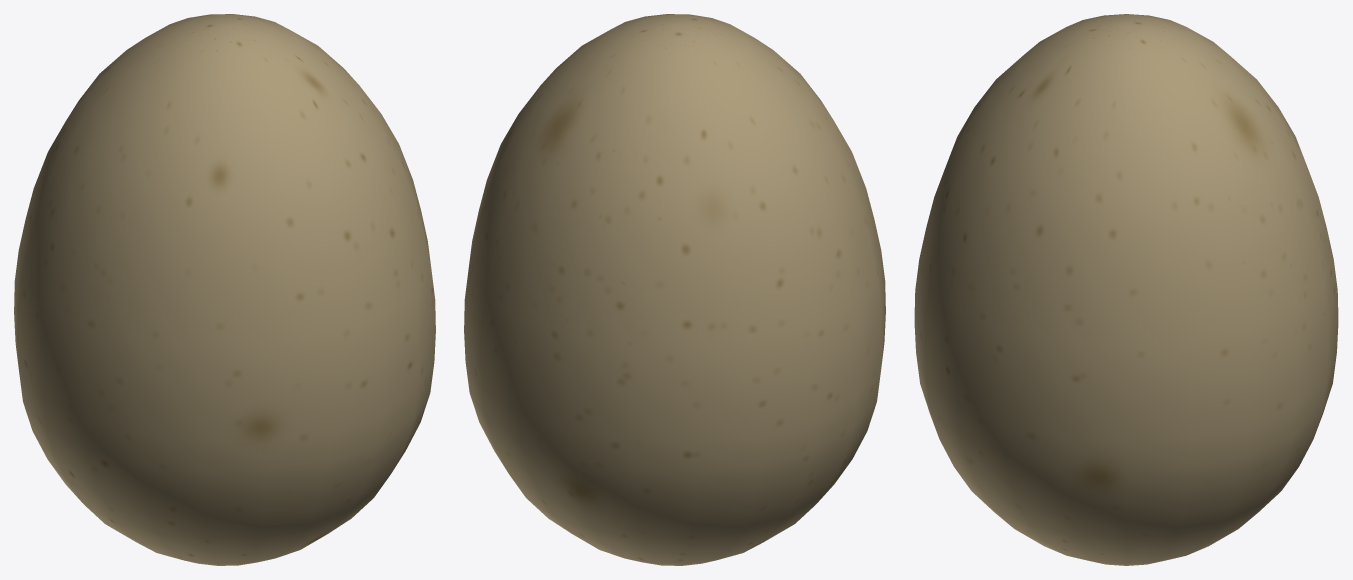
Rendered from Egg.fbx.
3 renders of one model, left to right at view 1: azimuth 30°, elevation 25°; view 2: azimuth 150°, elevation 25°; view 3: azimuth 270°, elevation 25°, orthographic.
Parts seen in each view (by area): view 1: Egg; view 2: Egg; view 3: Egg.
Boxes of the visible parts, bbox=[...] form: Egg: bbox=[14, 14, 435, 565]; Egg: bbox=[464, 14, 885, 565]; Egg: bbox=[914, 14, 1338, 565].
Size of the model in its own units: 0.5655 by 0.7698 by 0.5655.
1 material, 1 textured.
